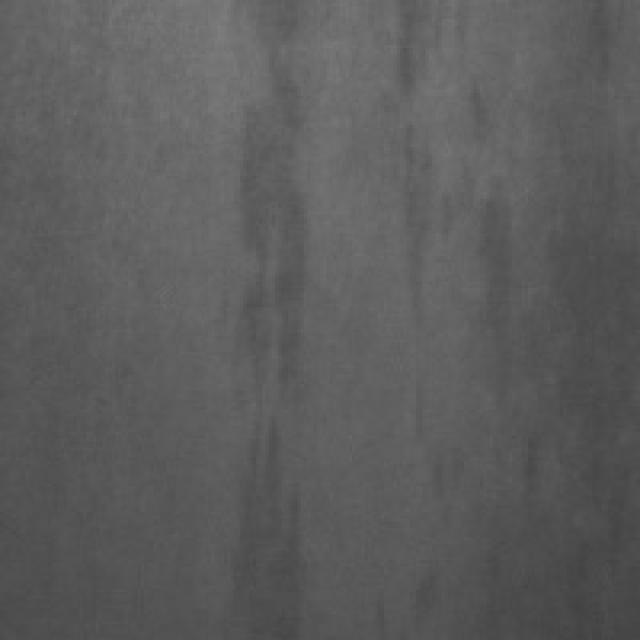inclusion: (208, 13, 310, 624), (358, 10, 458, 352), (451, 172, 531, 410)
